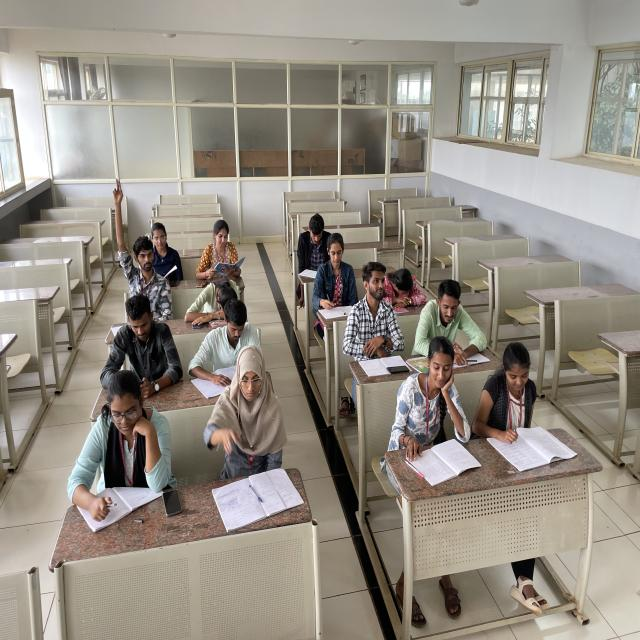Hand Rising: (107, 177, 173, 312)
Reading: (478, 340, 553, 454), (410, 342, 469, 462), (189, 300, 263, 388), (197, 217, 250, 288), (294, 203, 331, 285)
Sleeping: (184, 275, 241, 318), (388, 261, 426, 307)
Using Phone: (109, 296, 183, 396)
Writing: (78, 371, 148, 520), (316, 238, 356, 316)
